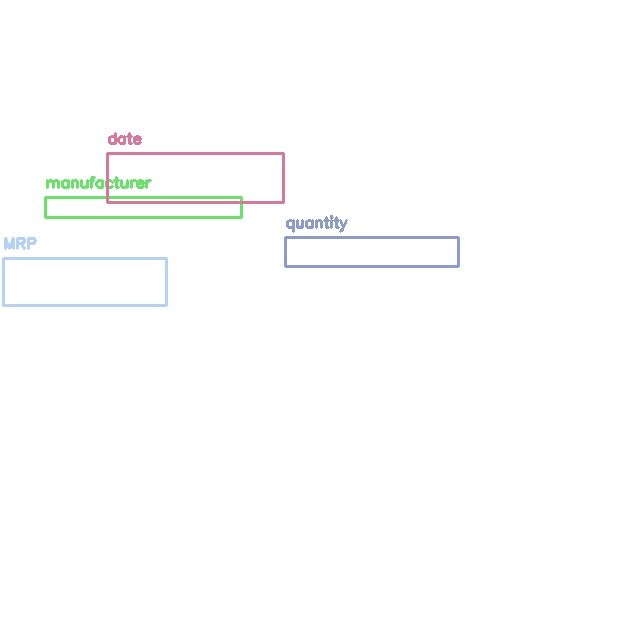MRP: (3, 258, 166, 305)
date: (107, 153, 283, 202)
manufacturer: (45, 197, 241, 217)
quantity: (285, 237, 458, 266)
